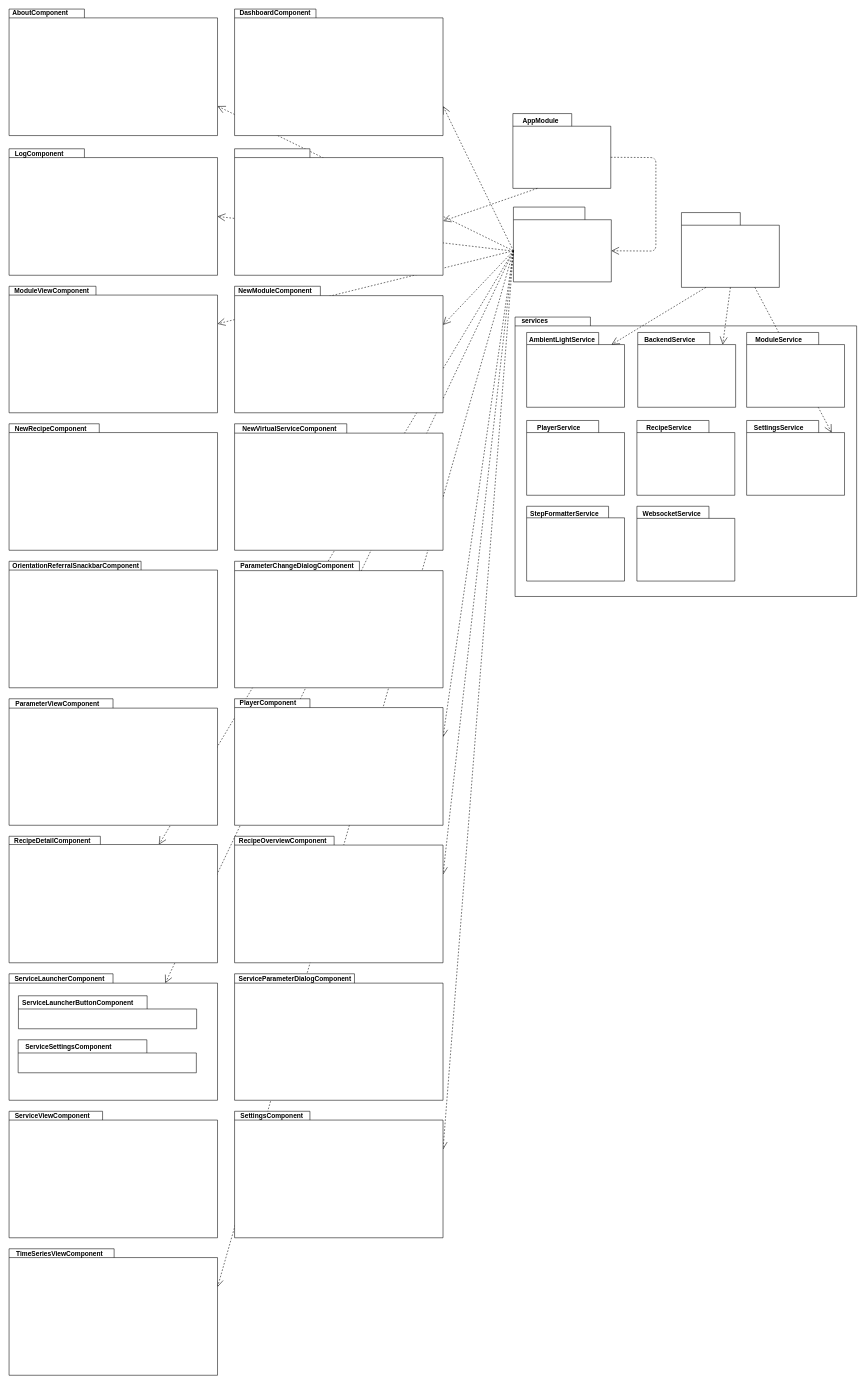
Some shapes in this 866 by 1384 pixel diagram are drawn without their labels. The centre of each missing label's shape, as x and y in pixels:
AppComponent: [730,249]
AppRoutingModule: [562,244]
MaterialModule: [338,211]
